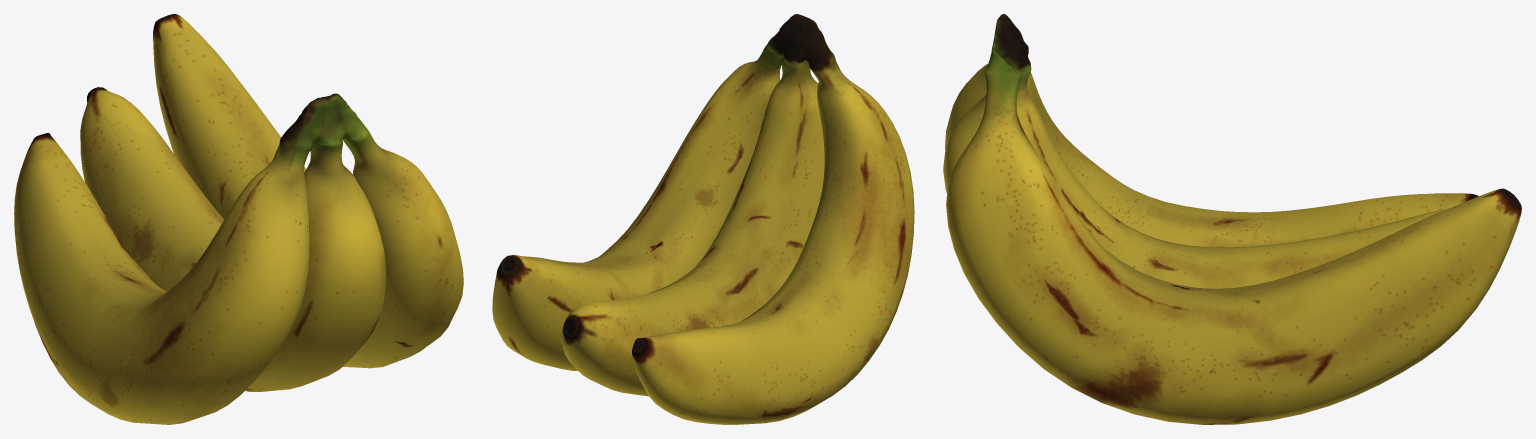
Rendered from Bananas.obj.
3 renders of one model, left to right at view 1: azimuth 30°, elevation 25°; view 2: azimuth 150°, elevation 25°; view 3: azimuth 270°, elevation 25°, orthographic. The views are drawn at different scales.
Parts seen in each view (by area): view 1: Cube.002_Cube.001; view 2: Cube.002_Cube.001; view 3: Cube.002_Cube.001.
Part boxes in pixels (box(x1,y1,x2,y2)): Cube.002_Cube.001: box(14, 14, 463, 424); Cube.002_Cube.001: box(492, 14, 914, 424); Cube.002_Cube.001: box(943, 14, 1521, 424).
Bounding box in the file's own units: 2.18 × 2.38 × 3.49.
